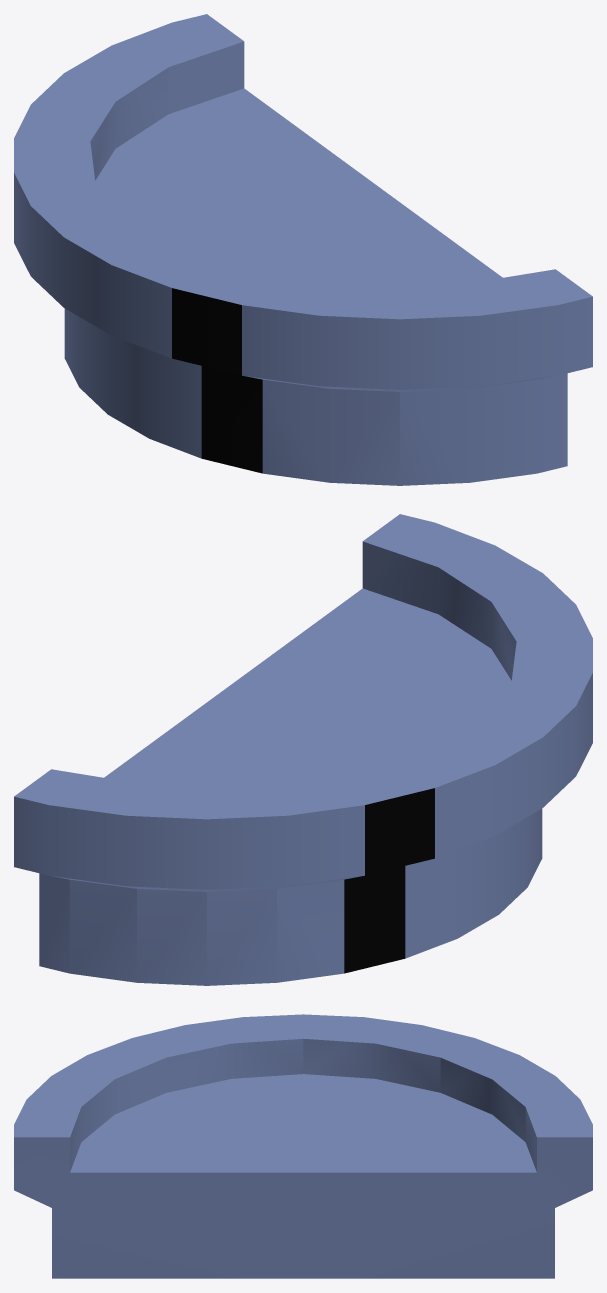
The model's file is br-m-pipe-blueB.fbx.
3 views of the same model, one above another, from view 1: azimuth 30°, elevation 25°; view 2: azimuth 150°, elevation 25°; view 3: azimuth 270°, elevation 25° (orthographic). The views are drawn at different scales.
Parts seen in each view (by area): view 1: pipeB_blue_m; view 2: pipeB_blue_m; view 3: pipeB_blue_m.
Part boxes in pixels (left/top/right/bottom): pipeB_blue_m: left=14, top=14, right=592, bottom=485; pipeB_blue_m: left=14, top=514, right=592, bottom=985; pipeB_blue_m: left=14, top=1014, right=592, bottom=1278.
Bounding box in the file's own units: 93.5 × 50 × 186.
